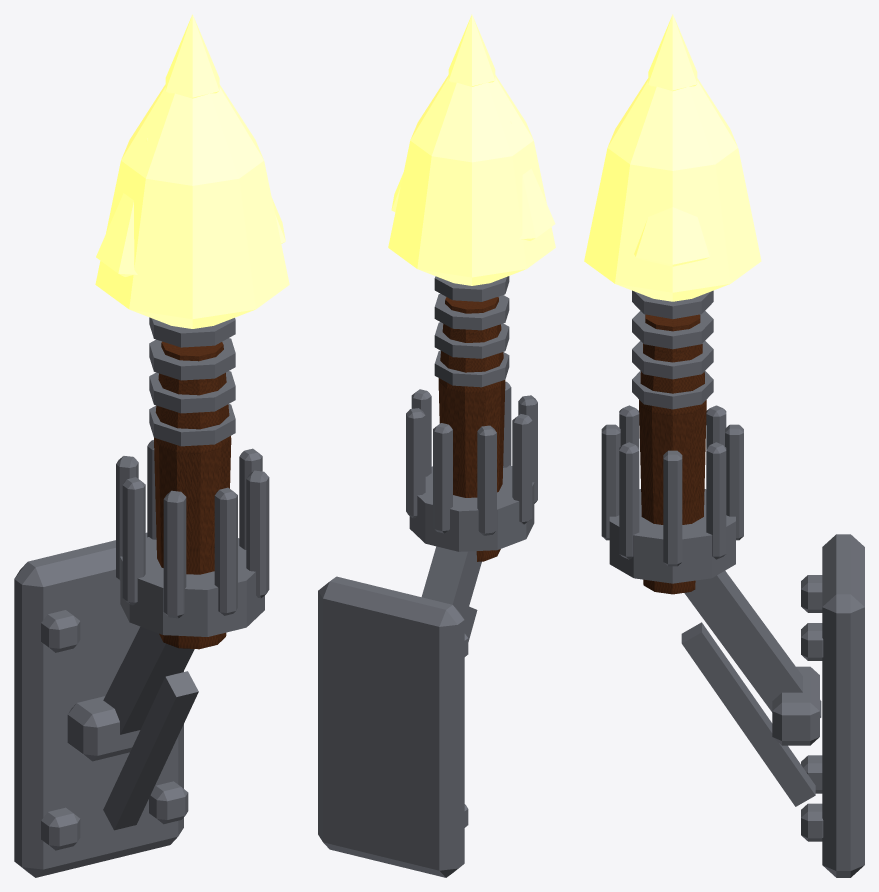
Rendered from fantasy-mmo-city-and-townsfolk-wall-torch-bc9b5a2c__32768.glb.
3 views of the same model, side by side, from view 1: azimuth 30°, elevation 25°; view 2: azimuth 150°, elevation 25°; view 3: azimuth 270°, elevation 25° (orthographic). The views are drawn at different scales.
Visible parts, largest first — view 1: wall-torch; view 2: wall-torch; view 3: wall-torch.
Boxes of the visible parts, box(x1,y1,x2,y2) form: wall-torch: box(14, 14, 289, 877); wall-torch: box(318, 14, 555, 877); wall-torch: box(584, 14, 864, 877).
Bounding box in the file's own units: 0.3901 × 1.94 × 0.5921.
Materials: 3 (1 with a texture image).
